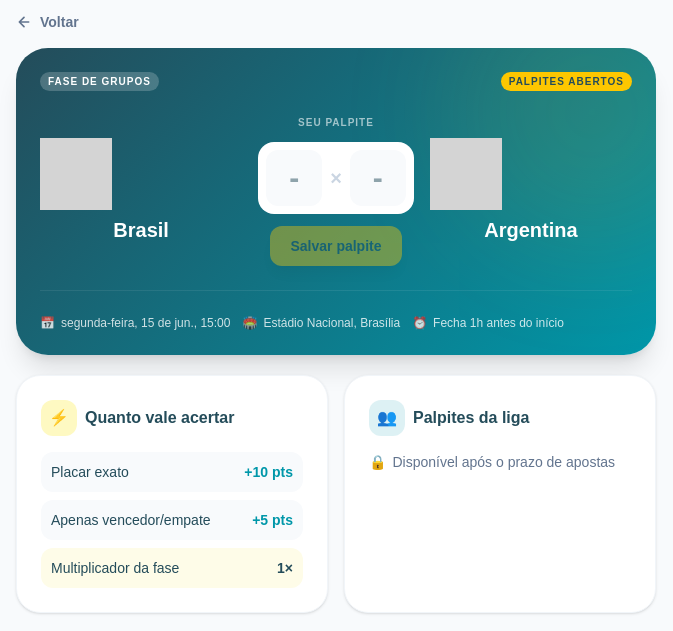
Test: BetDetailPage › shows "Salvo!" text on save button after successful PUT
Step 1. Type "2" into the number field with test id "input-home" → (294, 178), box x1=266 y1=150 x2=322 y2=206
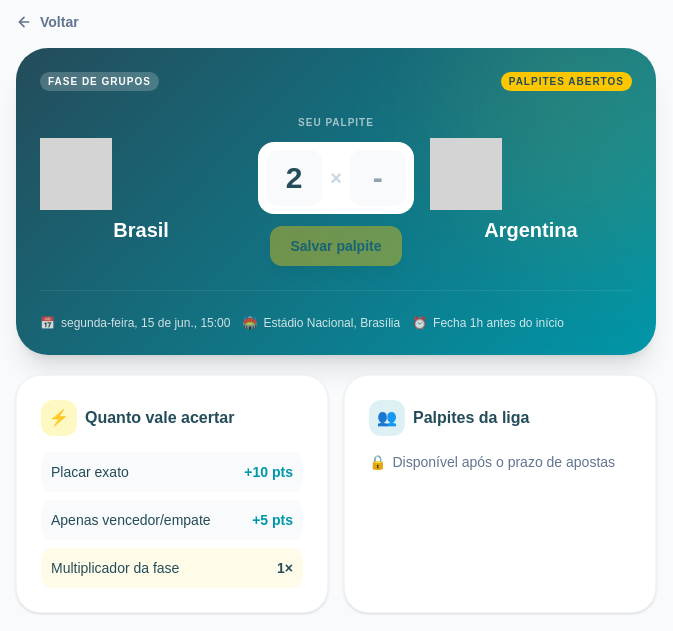
Step 2. Type "1" into the number field with test id "input-away" → (378, 178), box x1=350 y1=150 x2=406 y2=206
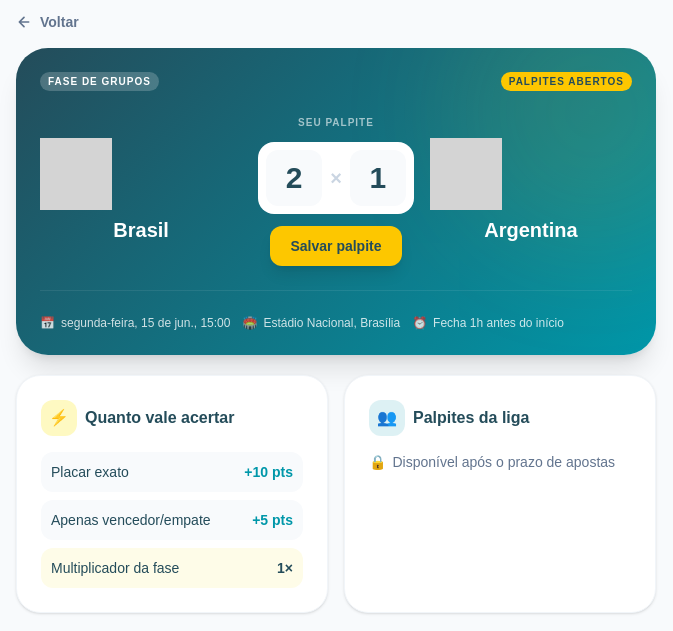
Step 3. Click the button with test id "save-btn" → (336, 246), box x1=270 y1=226 x2=402 y2=266
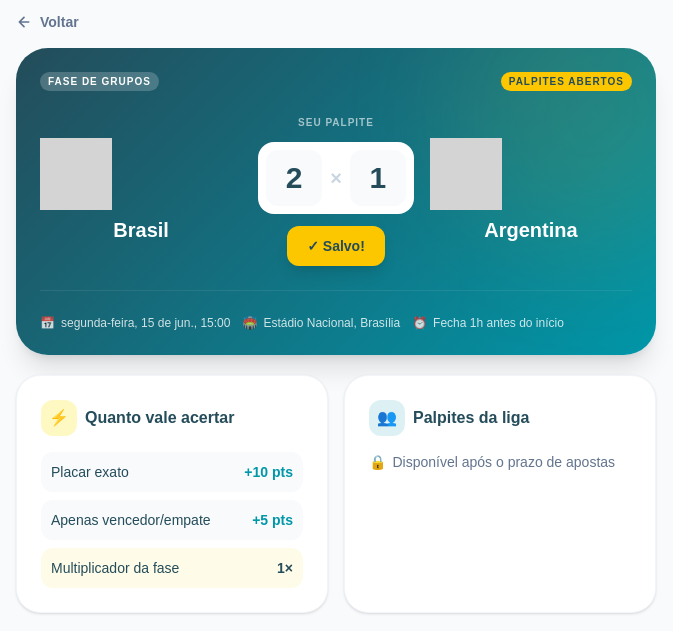
Check: the button with test id "save-btn" shows "Salvo!", box x1=287 y1=226 x2=385 y2=266
